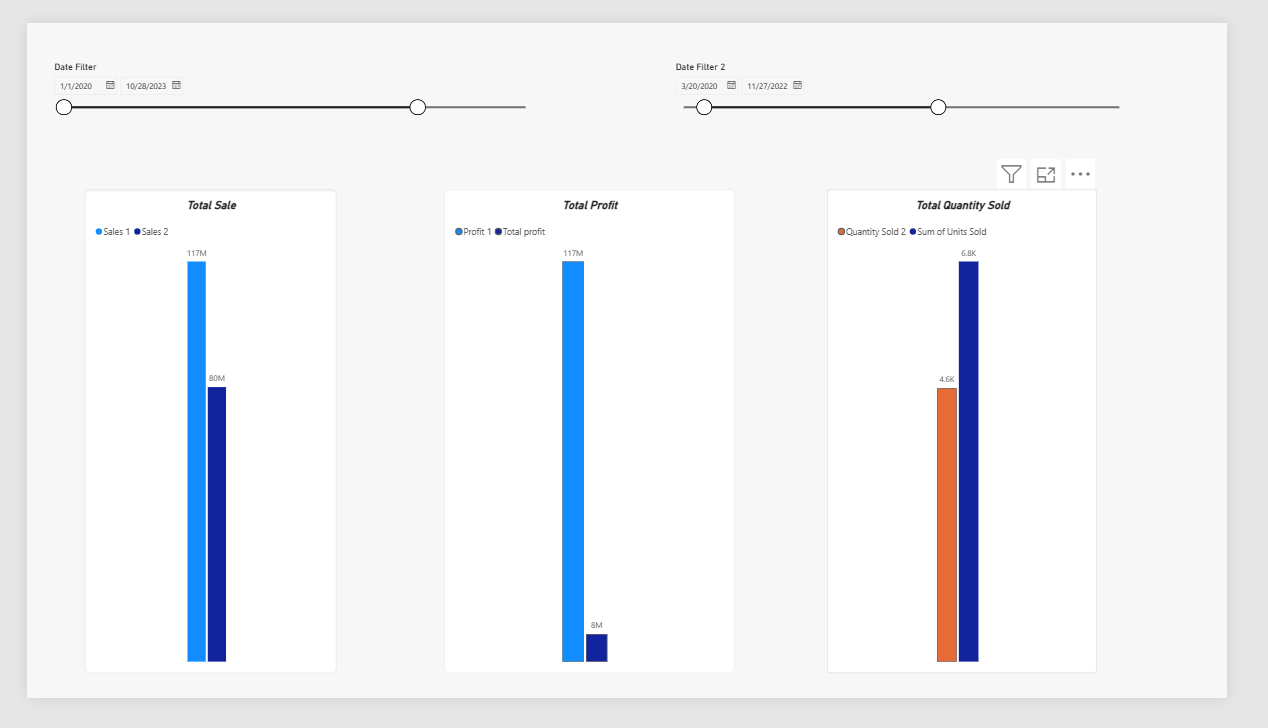

Layout of this report page (visuals, bound fields, positions):
{"tool":"powerbi","page":{"name":"Comparison Sales/Profit/Quantity","canvas":[1920,1080],"ordinal":2},"visuals":[{"type":"slicer","fields":{"Values":["Date Table1.Date"]},"box":[36,62,780,171.7],"z":0},{"type":"slicer","fields":{"Values":["Date Table2.Date"]},"box":[1030,62,736,164],"z":1000},{"type":"clusteredColumnChart","title":"Total Sale","fields":{"Y":["Sum(Fact table.Net Sale)","Date Table1.Sum of Net Sales"]},"box":[92,266,404,774],"z":2000},{"type":"clusteredColumnChart","title":"Total Profit","fields":{"Y":["Sum(Fact table.Net Sale)","Measures (2).Total Profit"]},"box":[668,266,464,774],"z":3000},{"type":"clusteredColumnChart","title":"Total  Quantity Sold","fields":{"Y":["Measures (2).Quantity Sold","Sum(Fact table.Units Sold)"]},"box":[1280,266,432,774],"z":4000}]}

Visuals, with their boxes in screenshot pixels (x1, y1, x2, y2), scaled from the page's 1920x1080 canvas onto the 1268x728 screenshot:
slicer - Date Table1.Date: 24:42:539:158
slicer - Date Table2.Date: 680:42:1166:152
"Total Sale" clusteredColumnChart: 61:179:328:701
"Total Profit" clusteredColumnChart: 441:179:748:701
"Total  Quantity Sold" clusteredColumnChart: 845:179:1131:701
